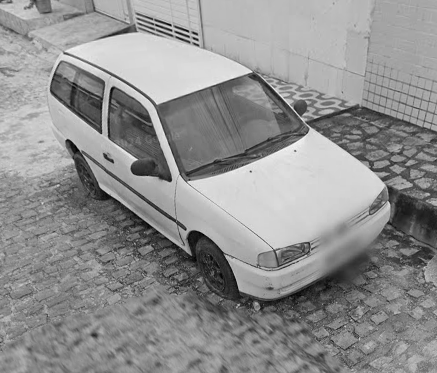car: (45, 30, 392, 304)
